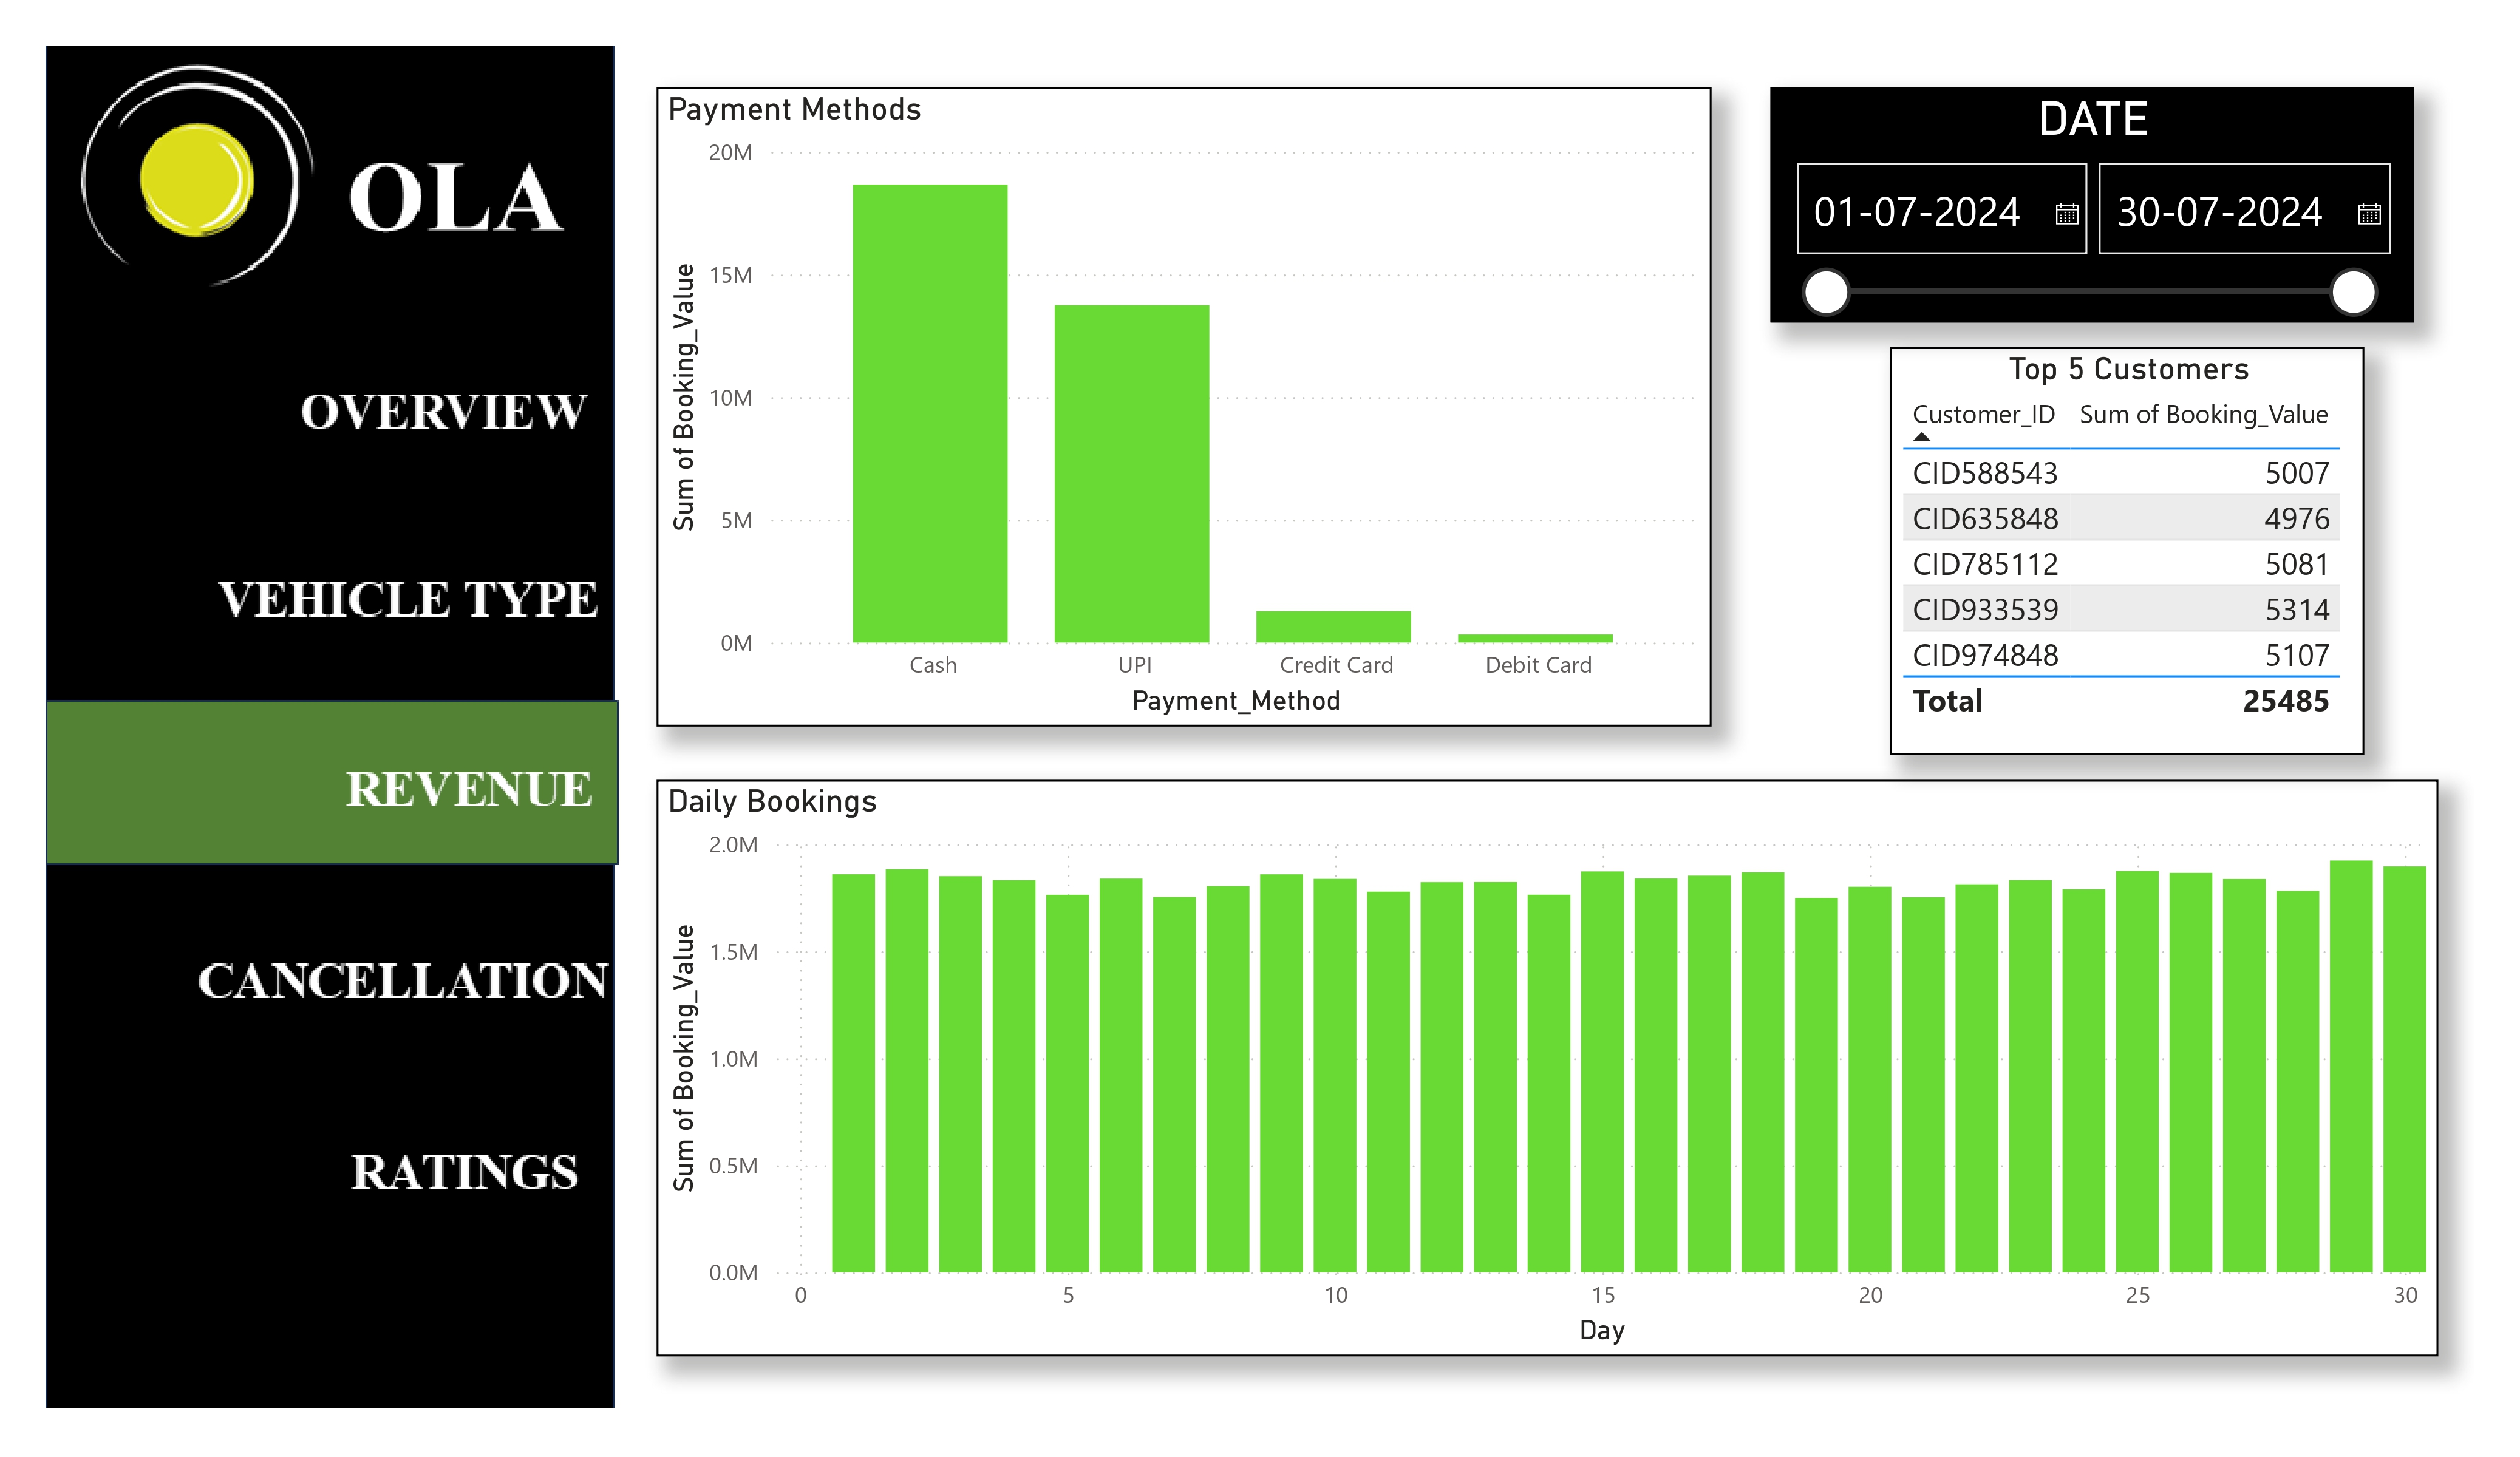

This screenshot's page, from the dashboard's own definition file:
{"tool":"powerbi","page":{"name":"REVENUE","canvas":[1280,720],"ordinal":2},"visuals":[{"type":"actionButton","box":[0,242.6,301.9,98.1],"z":0},{"type":"actionButton","box":[1.9,438.9,301.9,98.1],"z":1},{"type":"actionButton","box":[1.9,537,301.9,98.1],"z":2},{"type":"actionButton","box":[0,140.7,301.9,98.1],"z":3},{"type":"columnChart","title":"Payment Methods","fields":{"Y":["Sum(July.Booking_Value)"],"Category":["July.Payment_Method"]},"box":[322.2,22.2,555.6,337],"z":4},{"type":"columnChart","title":"Daily Bookings","fields":{"Y":["Sum(July.Booking_Value)"],"Category":["July.Date.Variation.Date Hierarchy.Day"]},"box":[322.2,387,938.9,303.7],"z":5},{"type":"slicer","title":"DATE","fields":{"Values":["July.Date"]},"box":[909.3,22.2,338.9,124.1],"z":6},{"type":"tableEx","title":"Top 5 Customers","fields":{"Values":["July.Customer_ID","Sum(July.Booking_Value)"]},"box":[972.2,159.3,250,214.8],"z":7}]}

Visuals, with their boxes on the page's 1280x720 design canvas (x1, y1, x2, y2). These are canvas units, not pixel positions in the 2520x1457 screenshot, which may show the page scaled, cropped or inside an application window:
actionButton: 0:243:302:341
actionButton: 2:439:304:537
actionButton: 2:537:304:635
actionButton: 0:141:302:239
"Payment Methods" columnChart: 322:22:878:359
"Daily Bookings" columnChart: 322:387:1261:691
"DATE" slicer: 909:22:1248:146
"Top 5 Customers" tableEx: 972:159:1222:374
